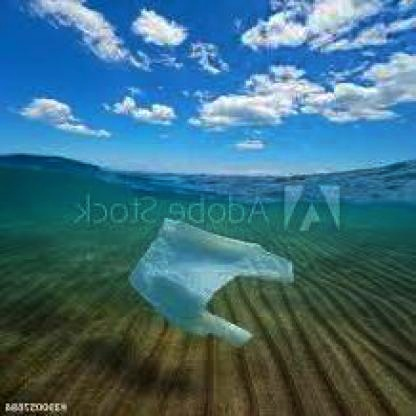pbag: (124, 216, 294, 348)
